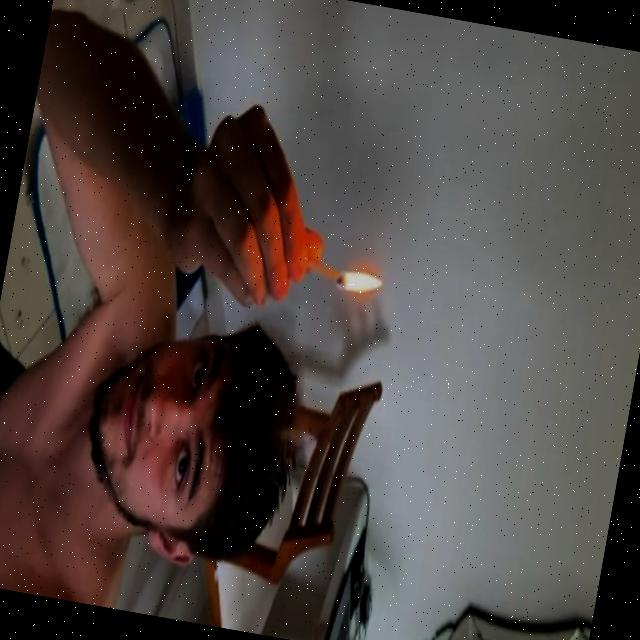fire: (332, 266, 383, 298)
